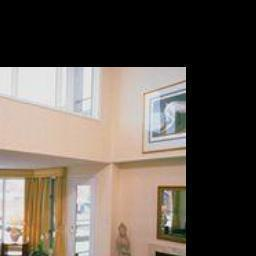Otro Obstaculo: (112, 221, 135, 256)
Puerta: (67, 175, 100, 256)
